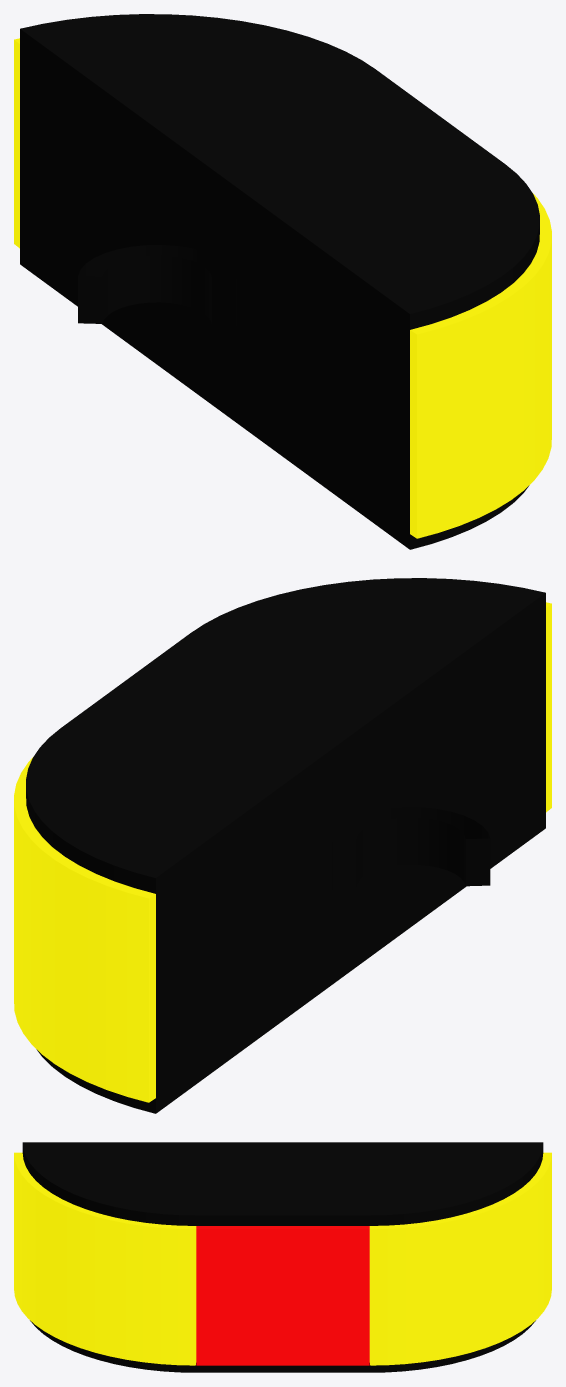
File: my_sabi.glb
The picture shows the model from 3 angles, top to bottom: view 1: azimuth 30°, elevation 25°; view 2: azimuth 150°, elevation 25°; view 3: azimuth 270°, elevation 25°; orthographic projection. The views are drawn at different scales.
Parts seen in each view (by area): view 1: SABI; view 2: SABI; view 3: SABI.
Boxes of the visible parts, x1,y1,x2,y2 form: SABI: (14,14,551,549); SABI: (14,578,551,1113); SABI: (14,1142,551,1372).
Bounding box in the file's own units: 4.68 × 3 × 9.3.
